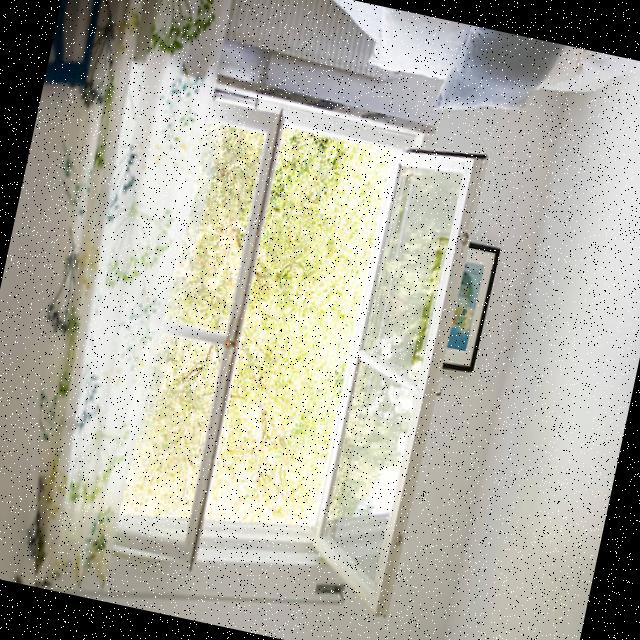Window: (96, 79, 495, 628)
